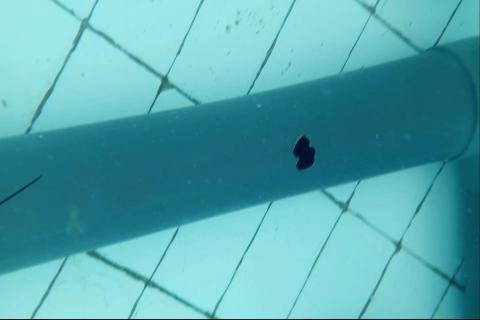kebocoran: (291, 132, 318, 172)
keretakan: (0, 174, 45, 204)
